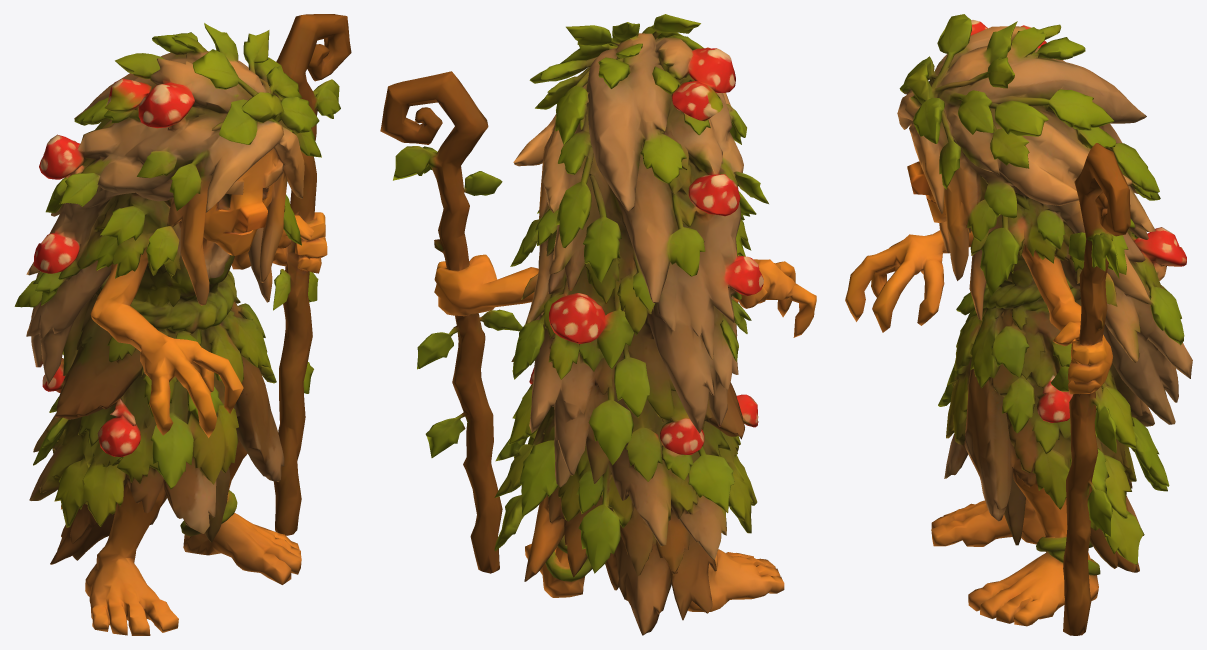
Rendered from forest druid 3d model.glb.
The picture shows the model from 3 angles, left to right: view 1: azimuth 30°, elevation 25°; view 2: azimuth 150°, elevation 25°; view 3: azimuth 270°, elevation 25°; orthographic projection.
Parts seen in each view (by area): view 1: tripo_node_0bffab9f-a507-4533-8ade-9d63124f140d; view 2: tripo_node_0bffab9f-a507-4533-8ade-9d63124f140d; view 3: tripo_node_0bffab9f-a507-4533-8ade-9d63124f140d.
Boxes of the visible parts, box(x1,y1,x2,y2) form: tripo_node_0bffab9f-a507-4533-8ade-9d63124f140d: box(14, 14, 351, 635); tripo_node_0bffab9f-a507-4533-8ade-9d63124f140d: box(380, 14, 816, 635); tripo_node_0bffab9f-a507-4533-8ade-9d63124f140d: box(845, 14, 1192, 635).
Bounding box in the file's own units: 0.6447 × 1 × 0.5613.
Materials: 1 (1 with a texture image).
